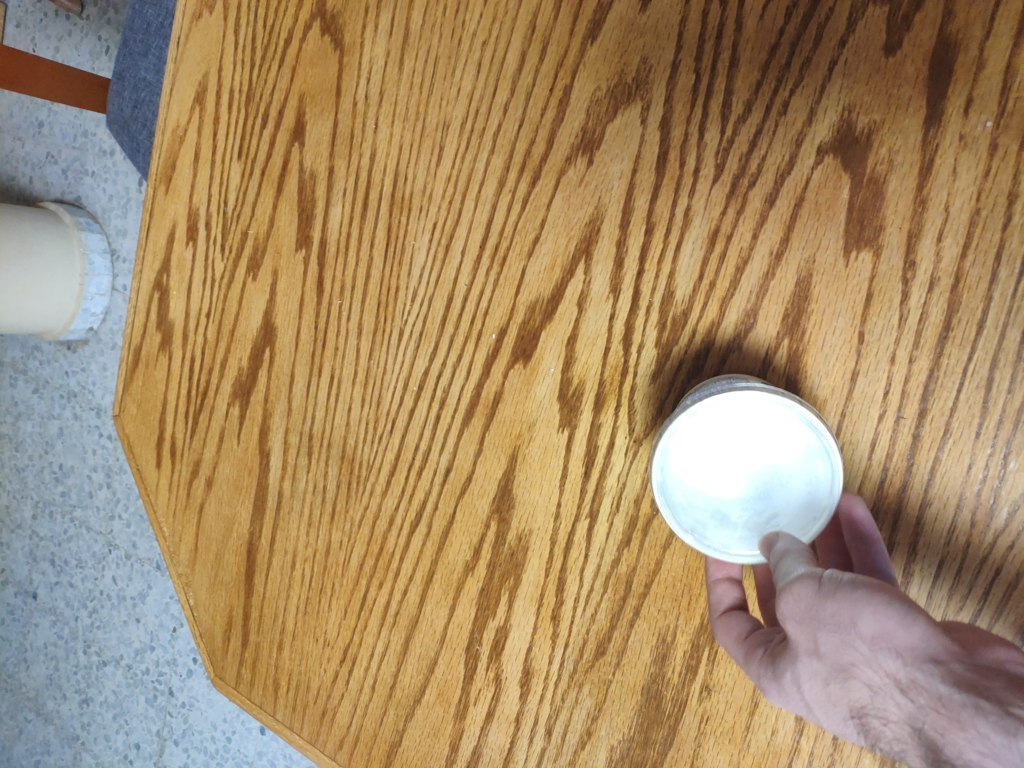Cotage: (608, 373, 853, 595)
